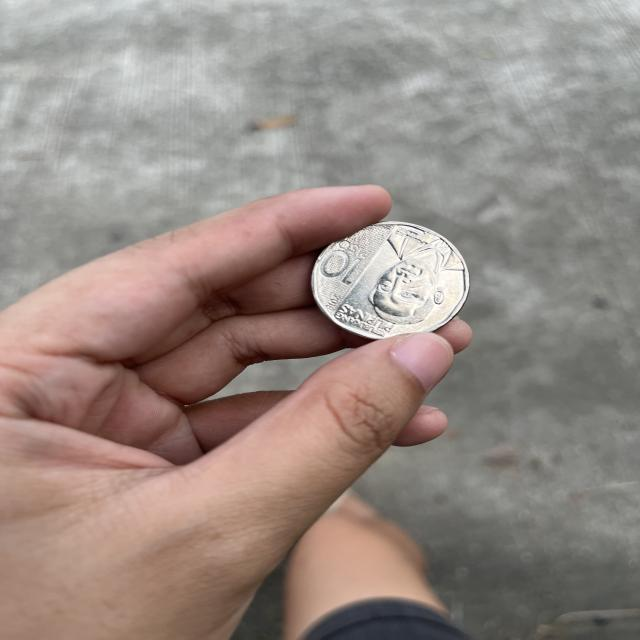10_New_Front: (328, 235, 370, 284)
